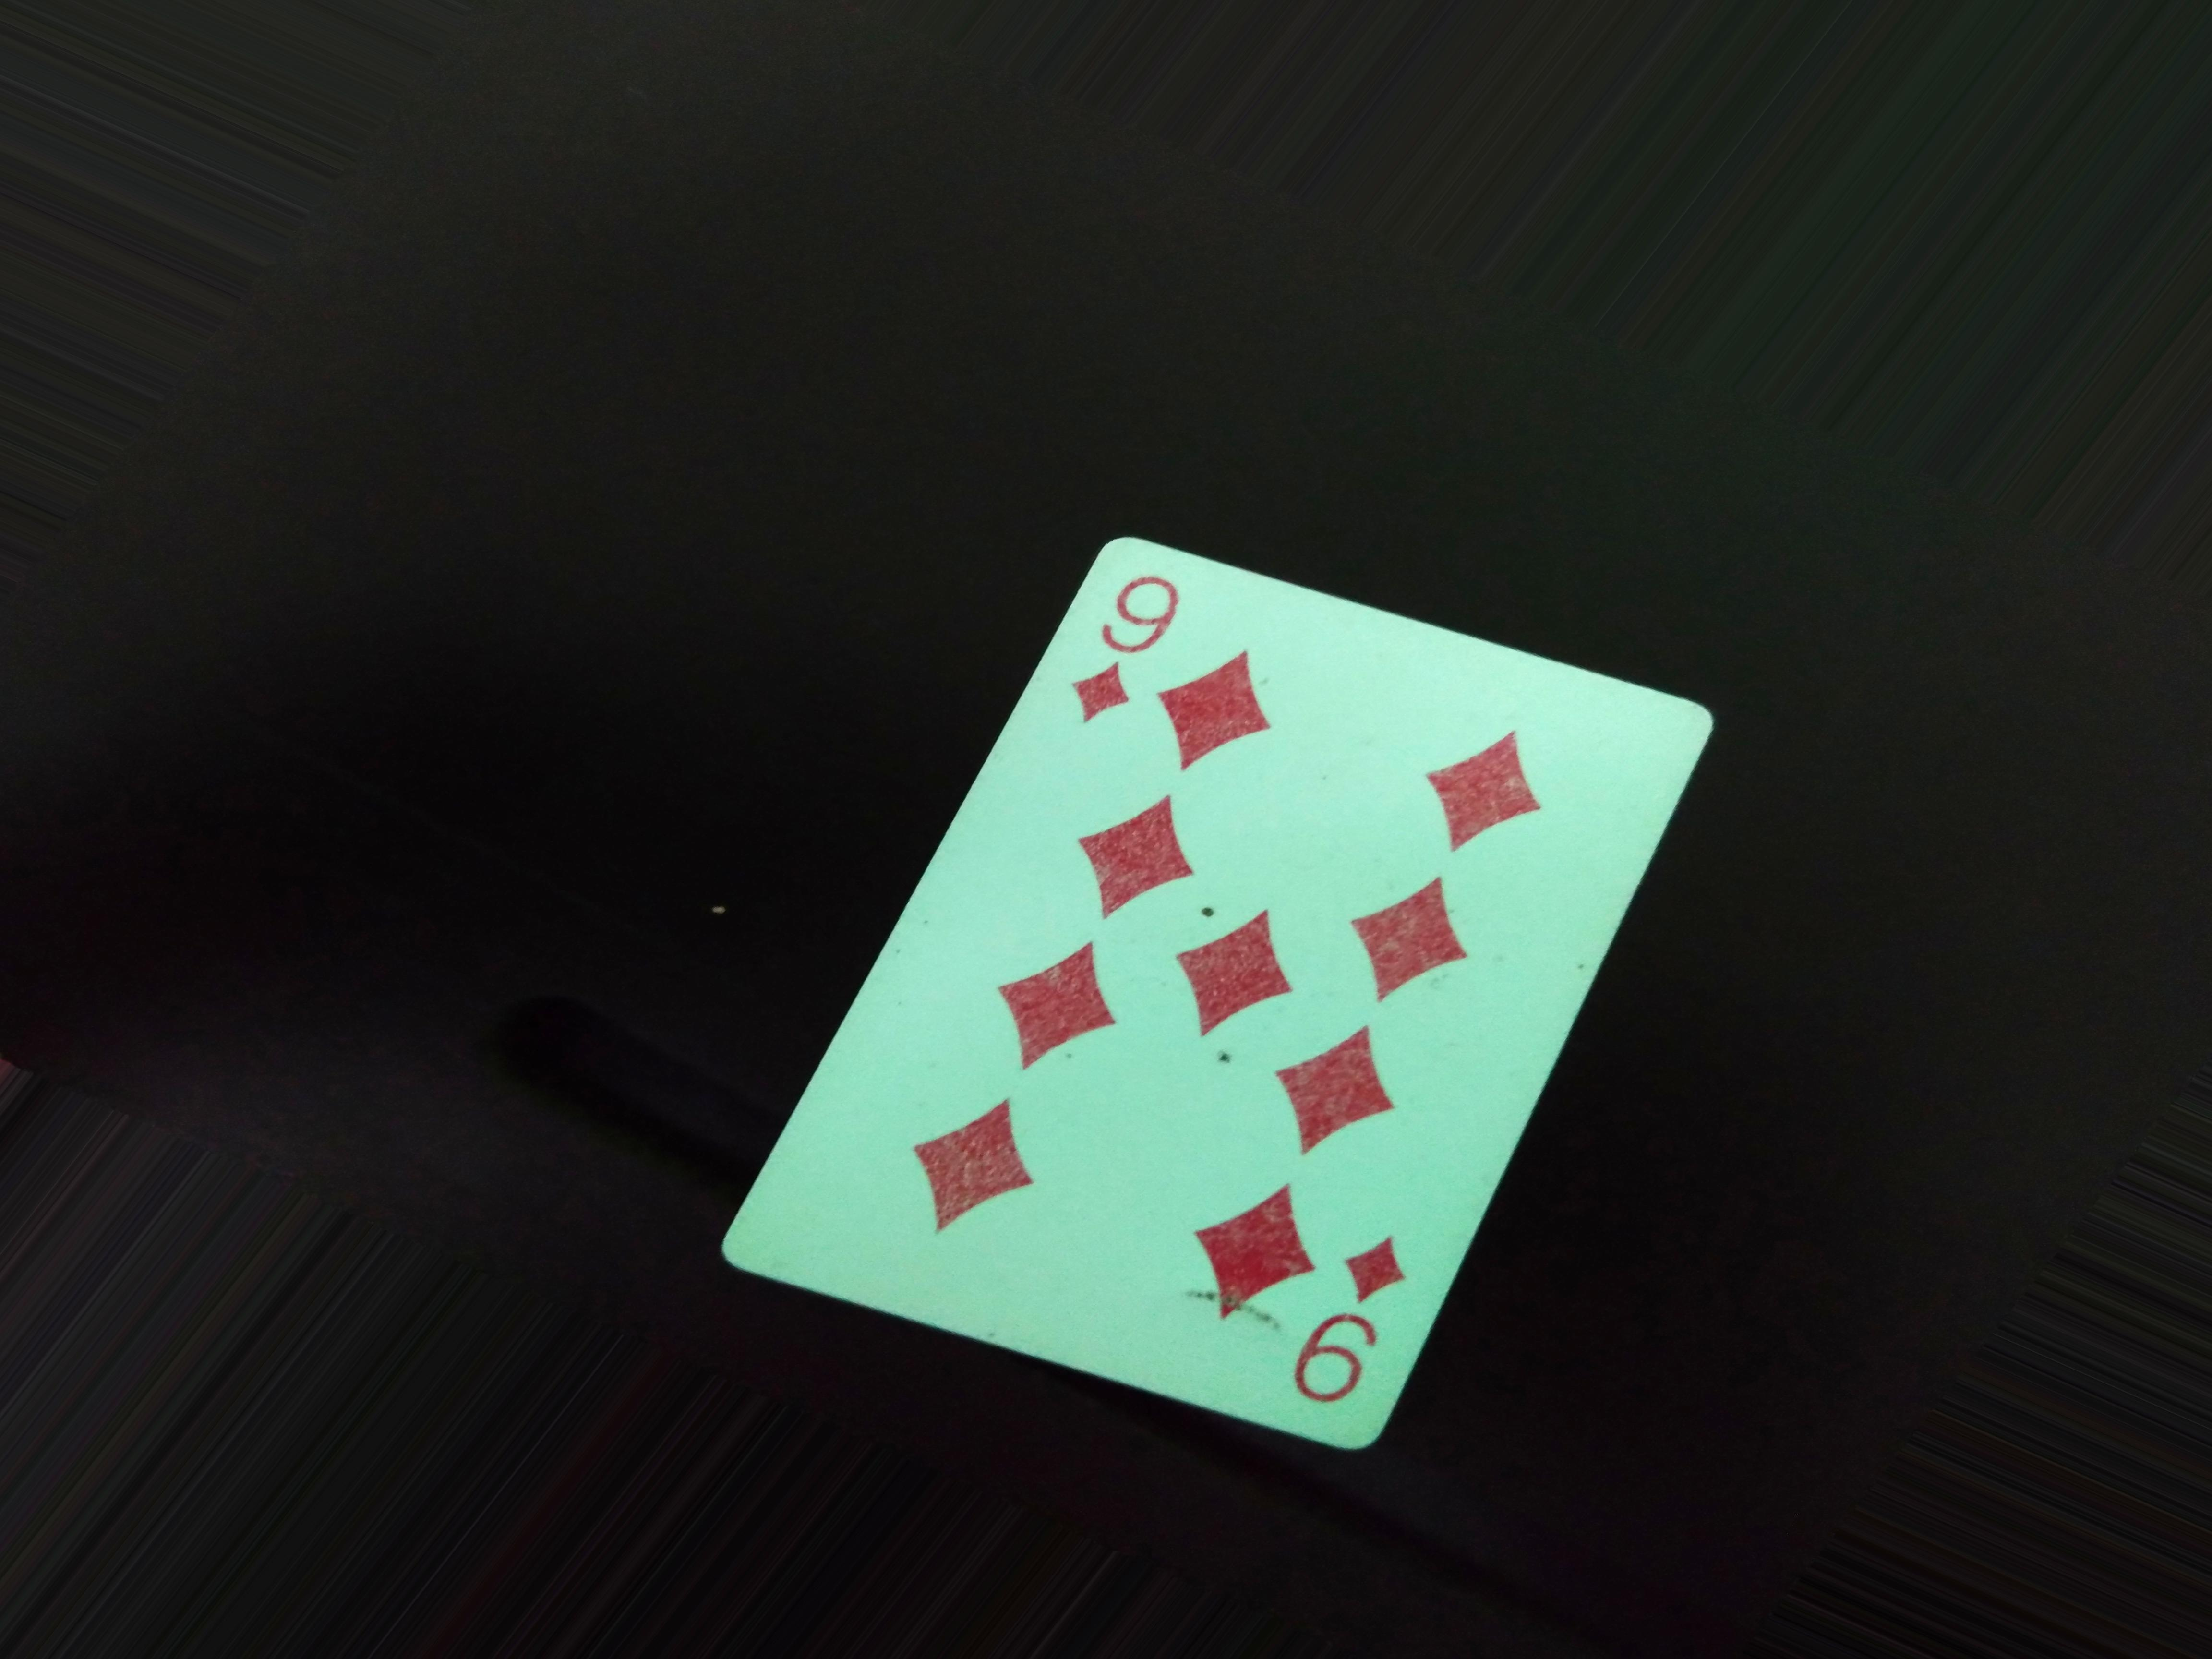9D: (1059, 568, 1174, 728)
